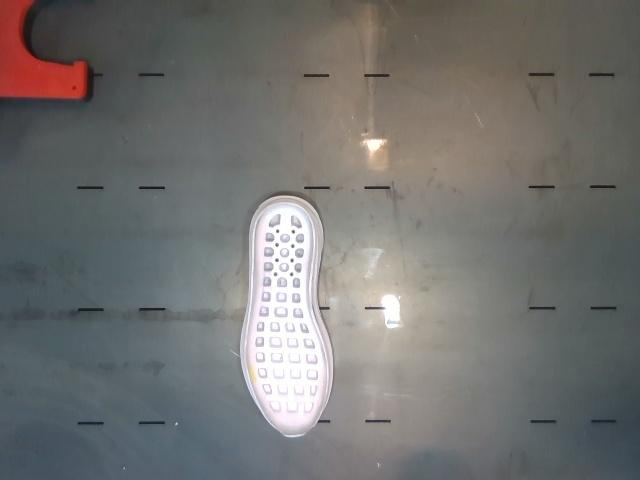shoes: (246, 203, 329, 435)
